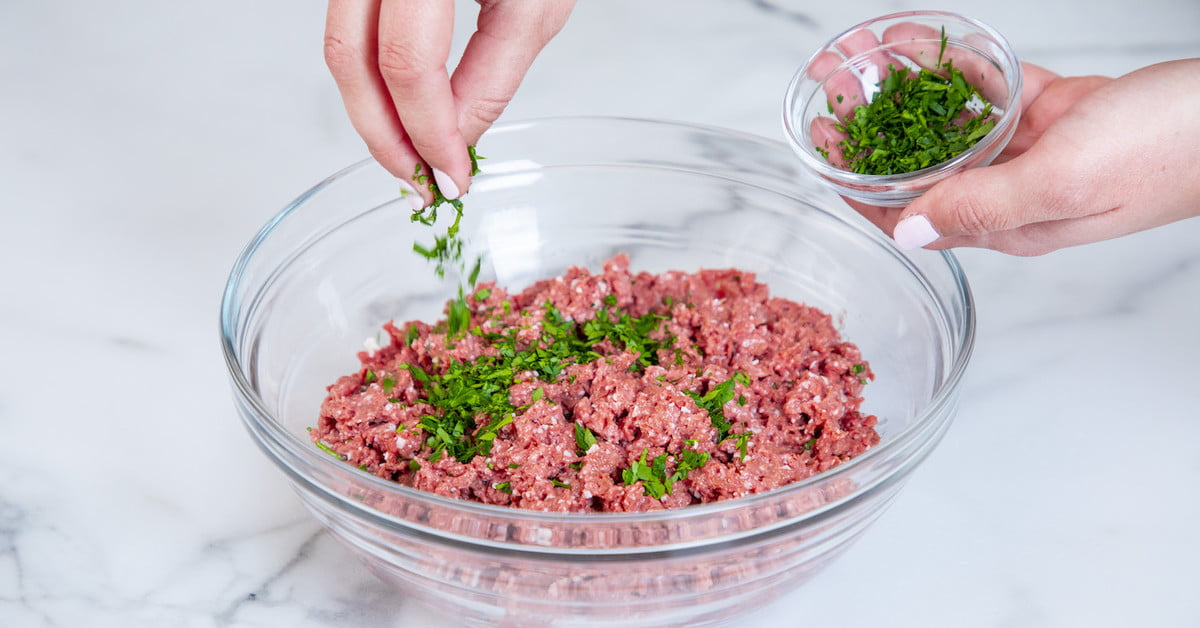ground_beef: (314, 238, 891, 548)
